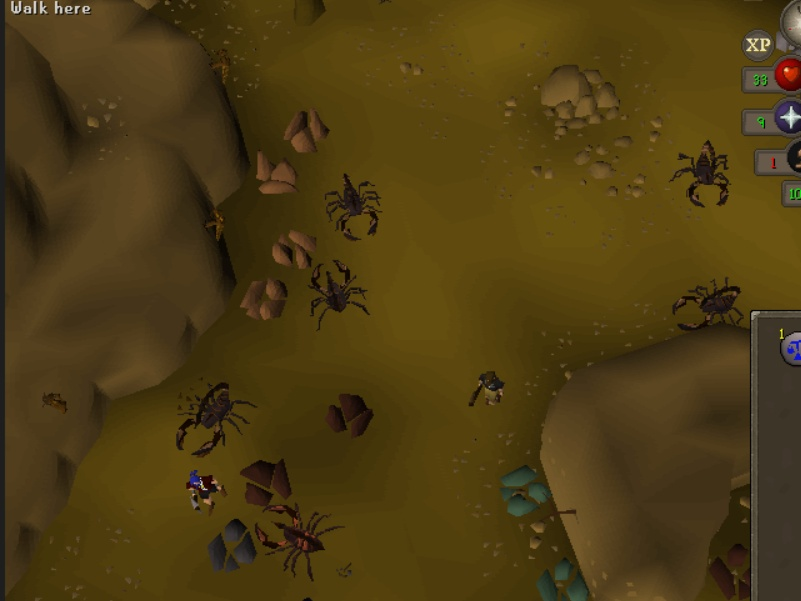adamant: (495, 459, 551, 520), (535, 556, 591, 601)
copper: (277, 102, 338, 158), (246, 145, 308, 198), (267, 225, 321, 271), (237, 275, 291, 321)
iron: (321, 387, 378, 441), (235, 455, 292, 509)
